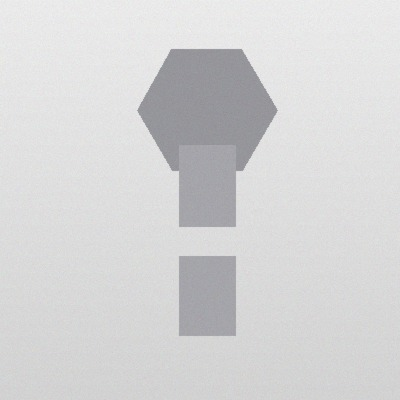broken: (167, 221, 247, 261)
